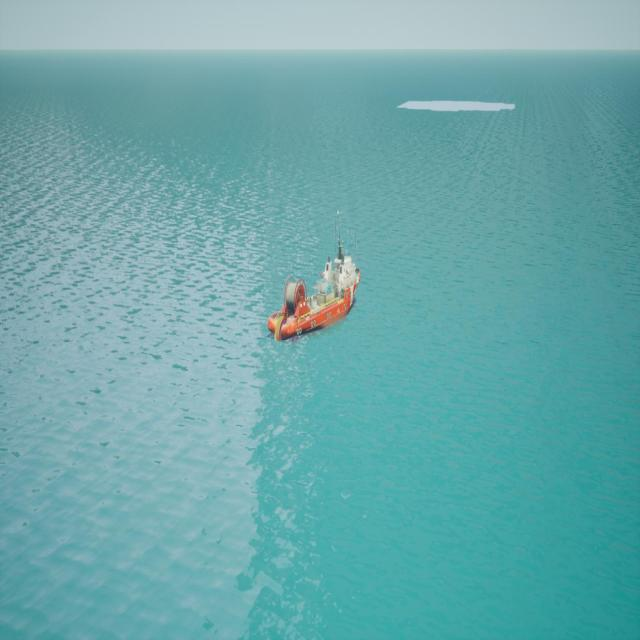tug boat: (271, 208, 364, 346)
